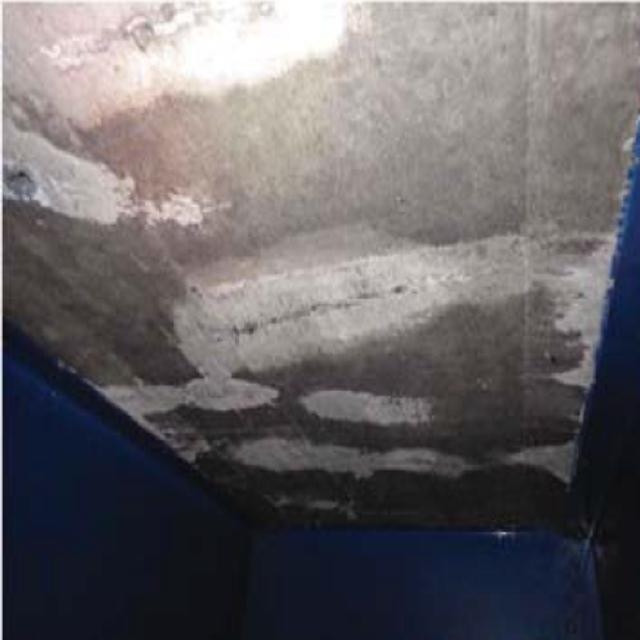freelime: (187, 256, 604, 391), (10, 119, 209, 240)
